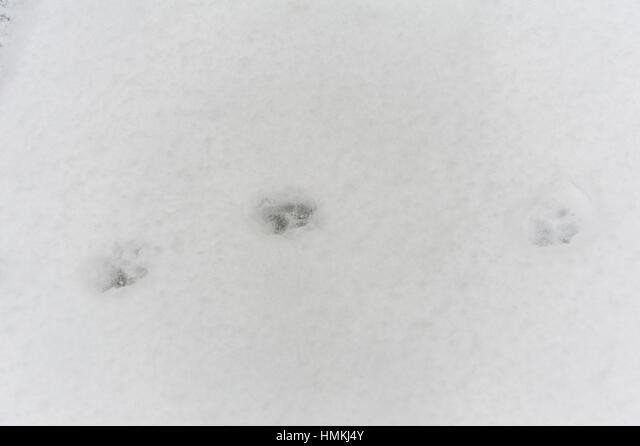raccoon: (237, 158, 338, 260), (72, 230, 183, 311), (509, 188, 594, 266)
